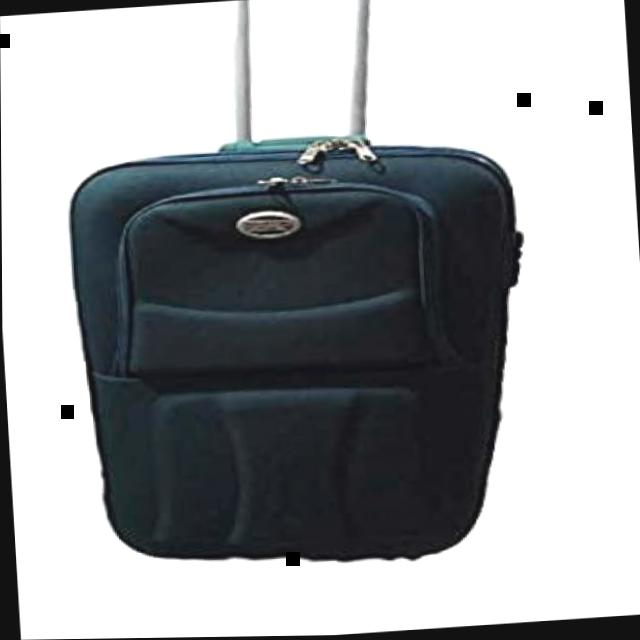luggage: (54, 117, 554, 589)
